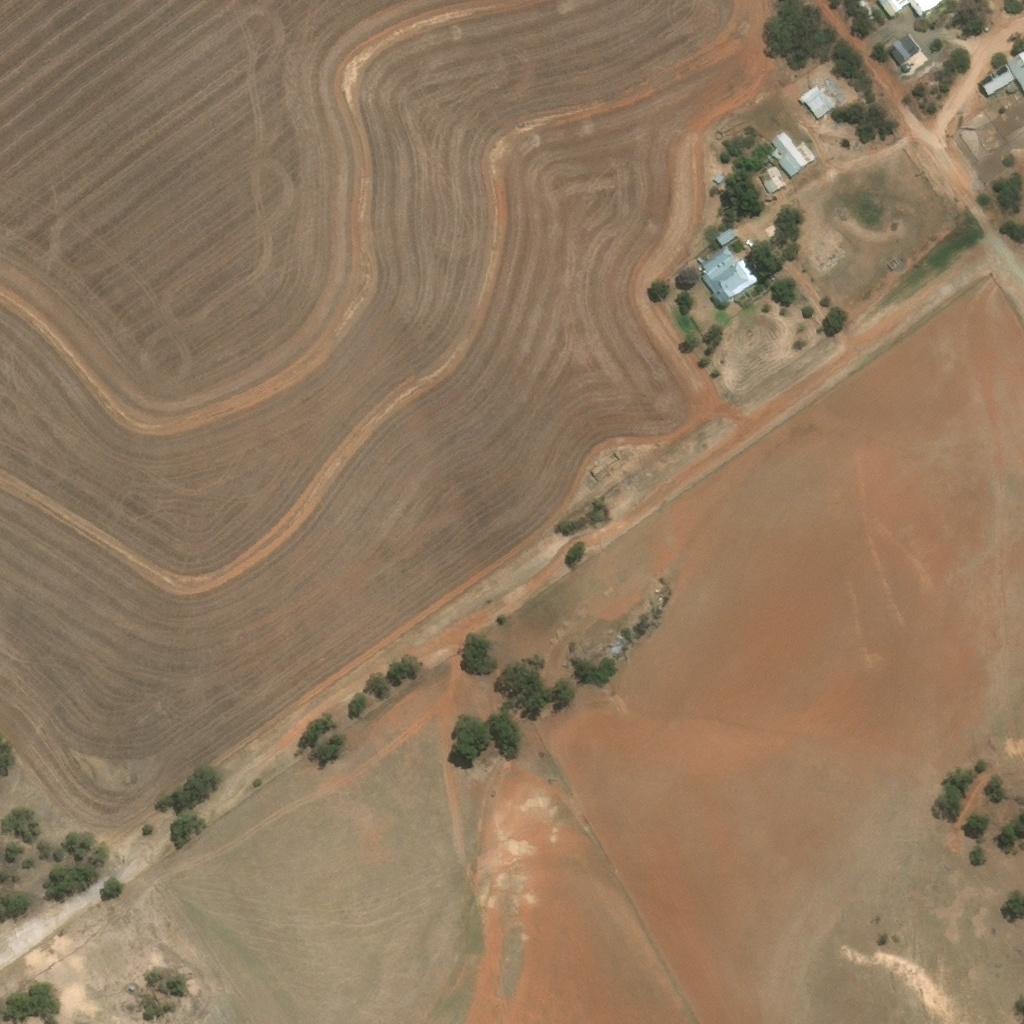0 no-damage: (695, 245, 757, 302), (770, 131, 816, 179), (798, 85, 834, 119), (979, 63, 1015, 96), (889, 32, 917, 65), (758, 166, 786, 194), (714, 227, 736, 245), (770, 148, 783, 162), (762, 224, 775, 237), (744, 236, 756, 248), (711, 173, 724, 184), (1005, 84, 1016, 96), (901, 63, 909, 71)
4 un-classified: (879, 0, 941, 16), (1006, 49, 1023, 88)
